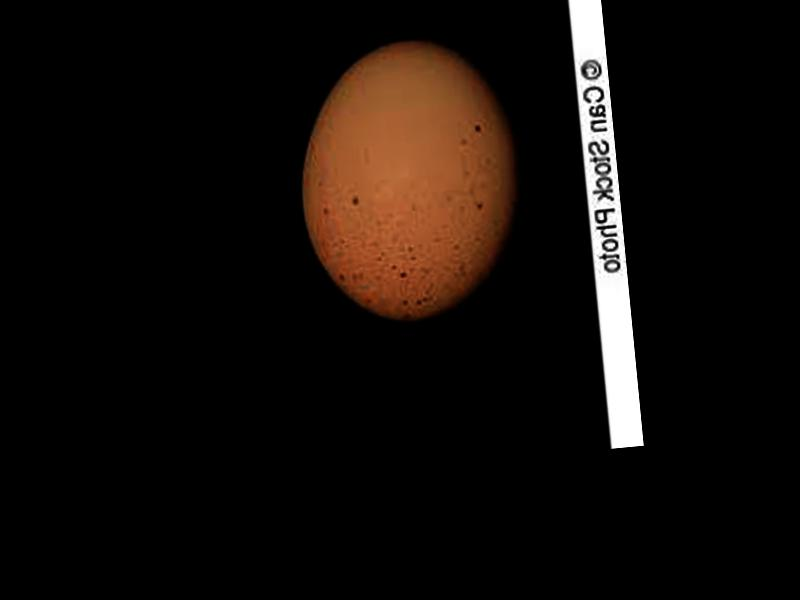Eggs: (288, 30, 535, 328)
